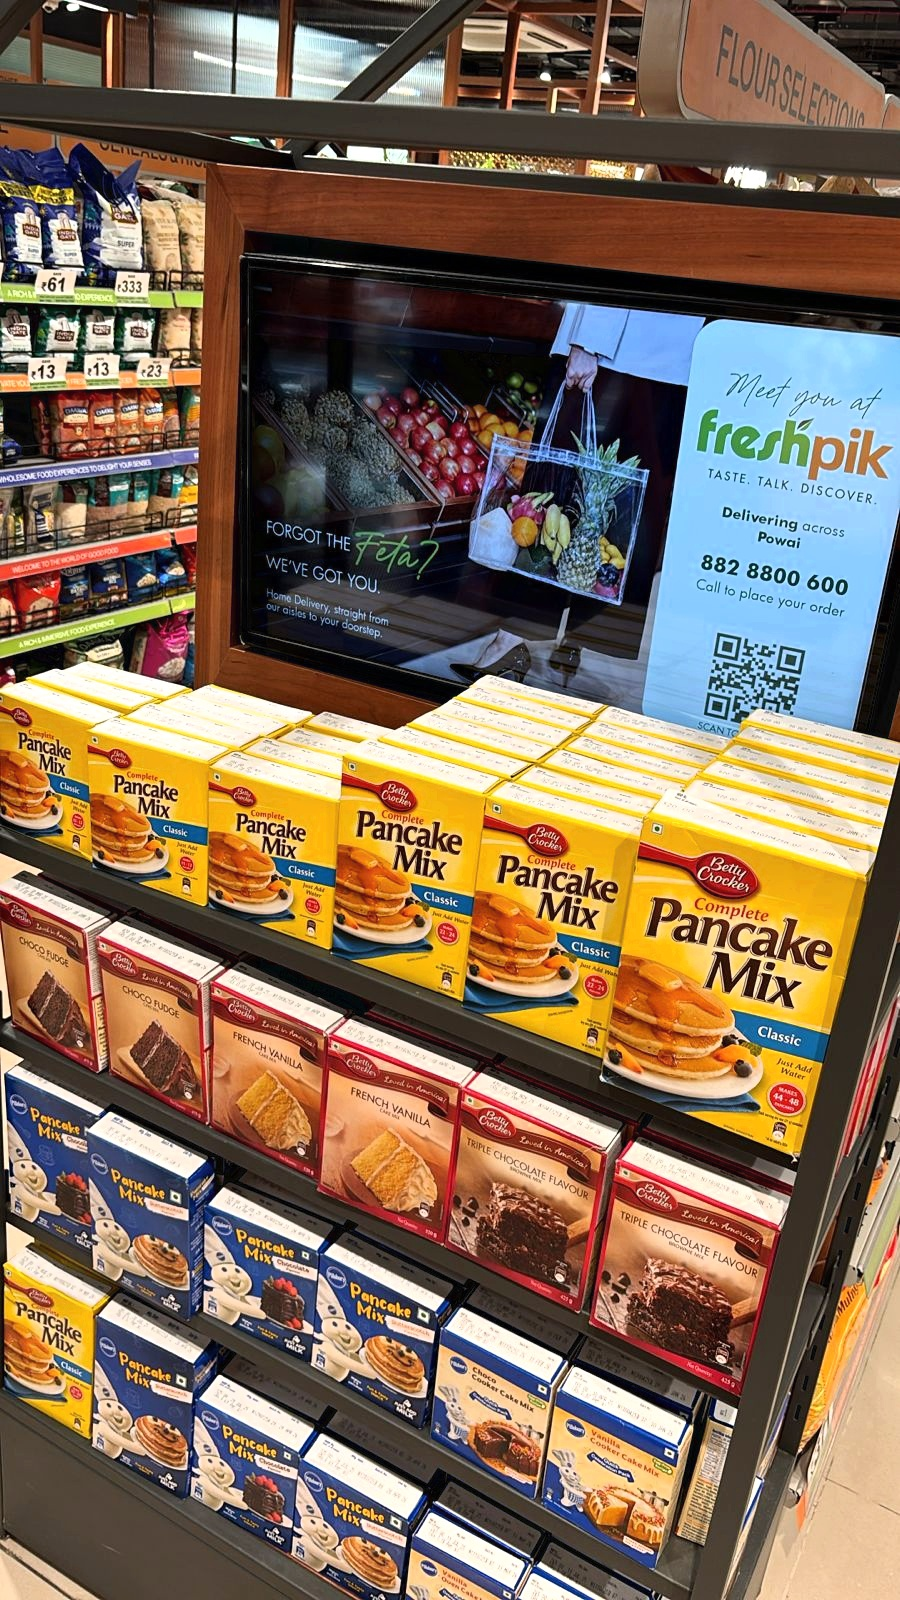Betty Crocker Pancake Mix: (592, 799, 827, 1171), (460, 770, 641, 1078), (324, 730, 496, 1016), (193, 724, 348, 976), (74, 710, 233, 913), (2, 674, 105, 863), (4, 1245, 95, 1452)
